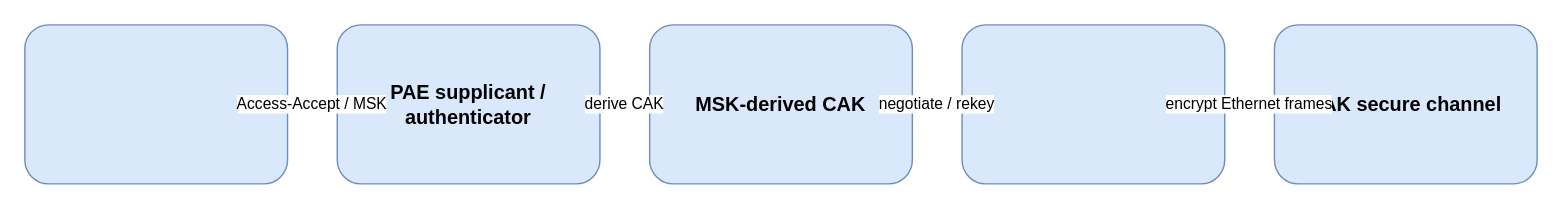
The diagram is 1562 pixels wide and 209 high, and some of its shapes have lost their labels. The shapes that lost their labels are listed below. From the top down, each one's centre as x and y in pixels, then its label:
At (x=155, y=103): "RADIUS authentication".
At (x=1093, y=103): "MKA key agreement".
